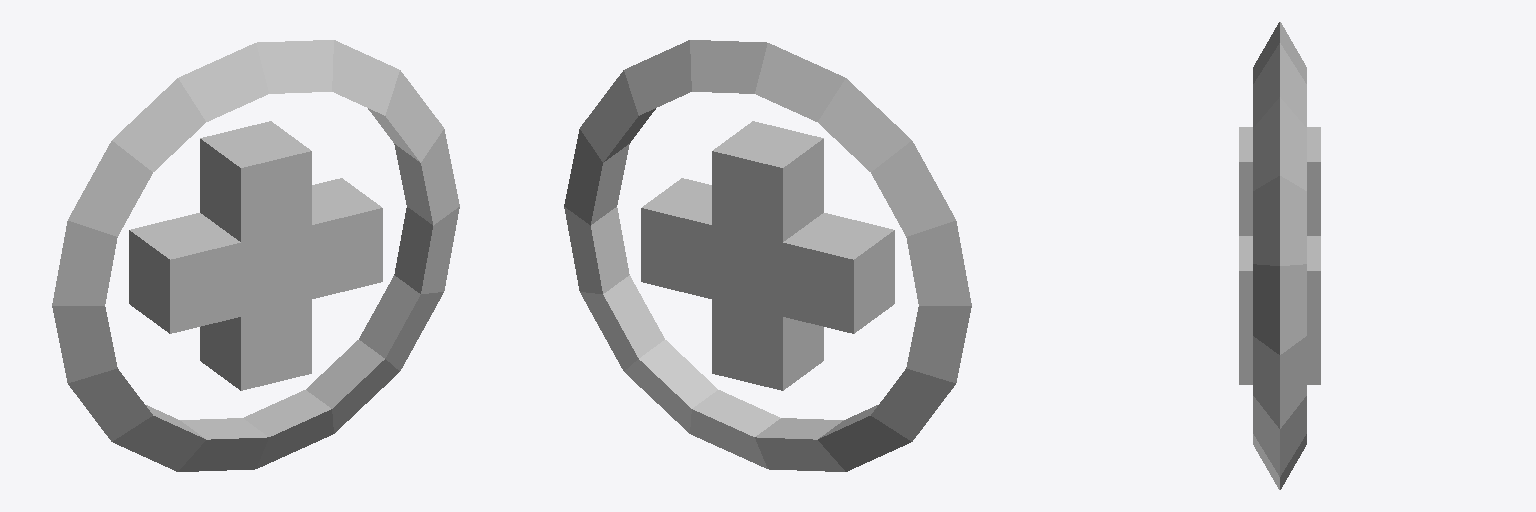
The model's file is health.obj.
The picture shows the model from 3 angles: view 1: azimuth 30°, elevation 25°; view 2: azimuth 150°, elevation 25°; view 3: azimuth 270°, elevation 25°; orthographic projection.
Visible parts, largest first — view 1: Ring_Mesh, Cross_Mesh.001; view 2: Ring_Mesh, Cross_Mesh.001; view 3: Ring_Mesh, Cross_Mesh.001.
Boxes of the visible parts, x1=… form: Ring_Mesh: x1=52, y1=40, x2=459, y2=471; Cross_Mesh.001: x1=129, y1=121, x2=382, y2=390; Ring_Mesh: x1=564, y1=40, x2=971, y2=471; Cross_Mesh.001: x1=641, y1=121, x2=894, y2=390; Ring_Mesh: x1=1253, y1=22, x2=1306, y2=489; Cross_Mesh.001: x1=1239, y1=127, x2=1320, y2=384.
Bounding box in the file's own units: 11.5 × 11.5 × 2.